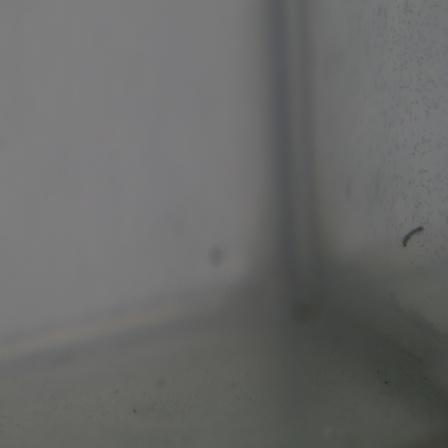Jentik-Nyamuk: (397, 221, 427, 250)
